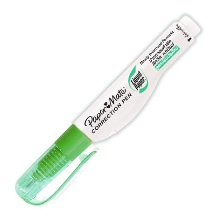correction_fluid: (11, 12, 202, 210)
